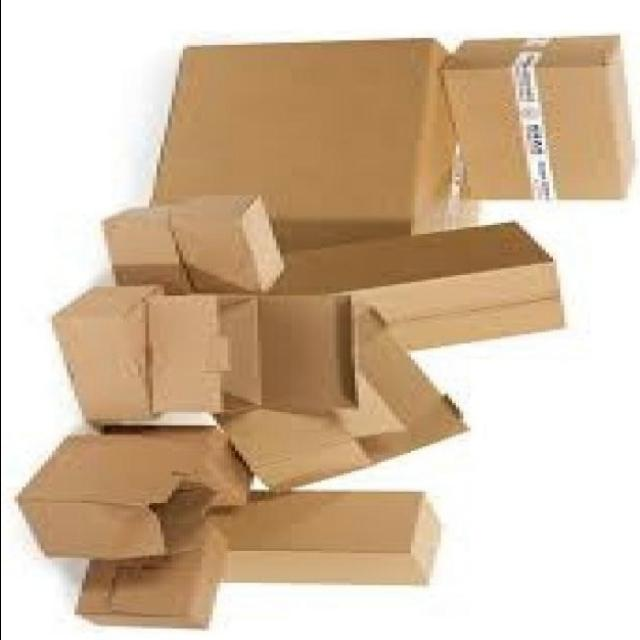cardboard paper: (21, 39, 635, 629), (157, 42, 453, 252), (445, 39, 634, 200)
